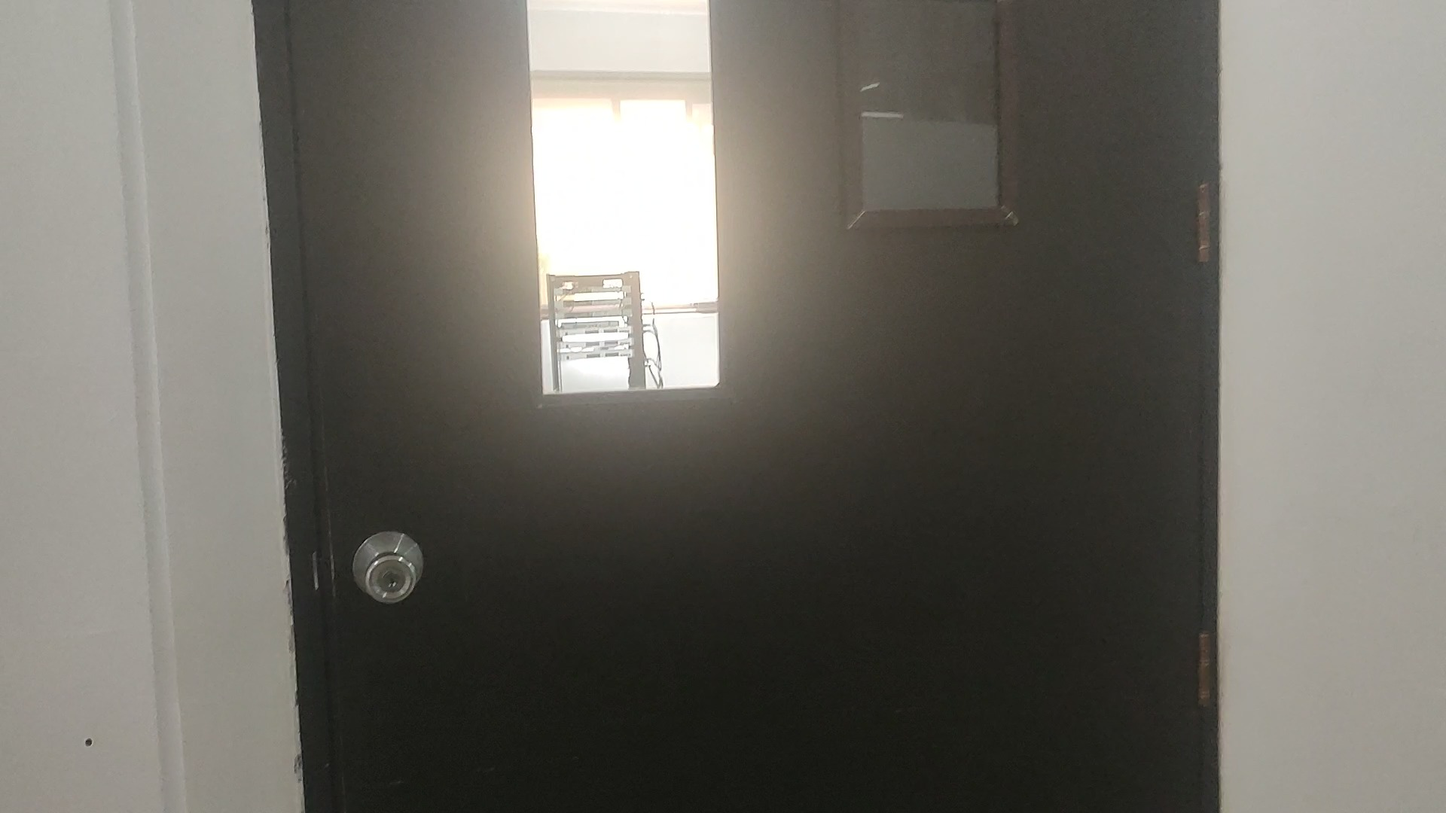door: (248, 0, 1222, 813)
